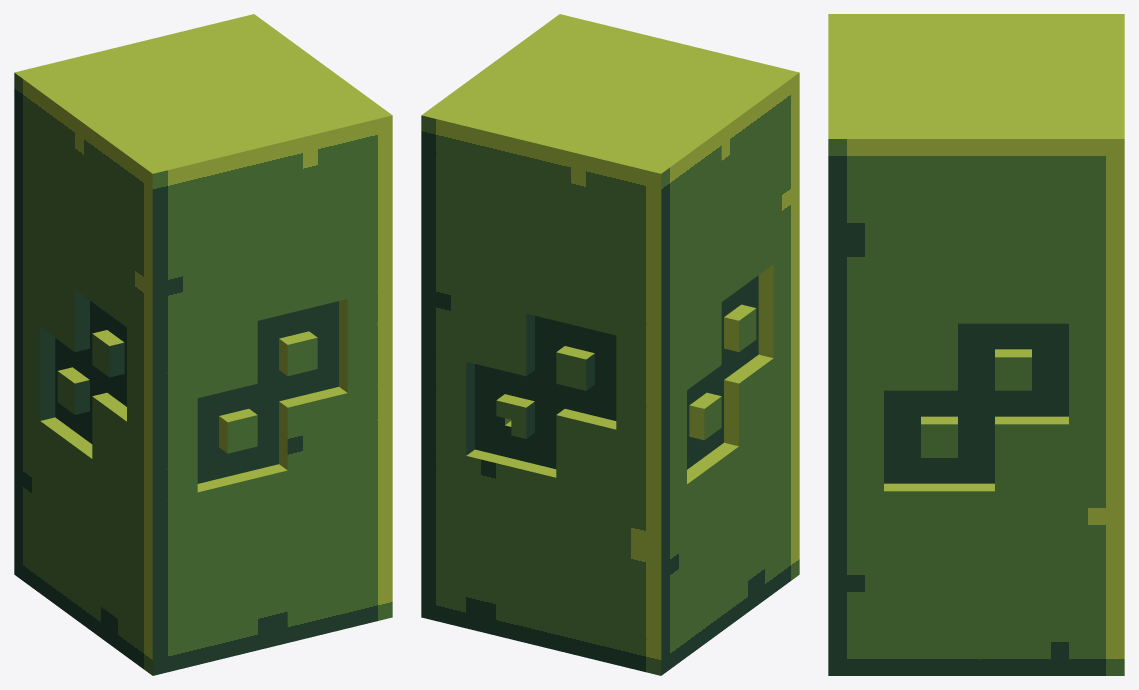
File: secret_sewer_bao.fezao.glb
3 renders of one model, left to right at view 1: azimuth 30°, elevation 25°; view 2: azimuth 150°, elevation 25°; view 3: azimuth 270°, elevation 25°, orthographic. The views are drawn at different scales.
Visible parts, largest first — view 1: SECRET_SEWER_BAO; view 2: SECRET_SEWER_BAO; view 3: SECRET_SEWER_BAO.
Part boxes in pixels (x1,y1,x2,y2): SECRET_SEWER_BAO: (14, 14, 392, 675); SECRET_SEWER_BAO: (421, 14, 799, 675); SECRET_SEWER_BAO: (828, 14, 1124, 675).
Size of the model in its own units: 1 by 2 by 1.
1 material, 1 textured.
